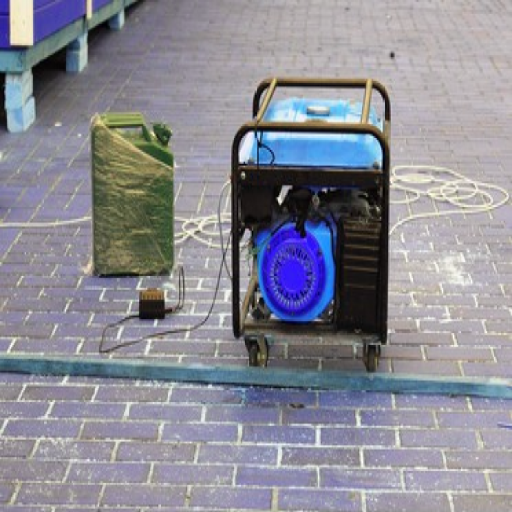portable_generator: (232, 76, 392, 345)
